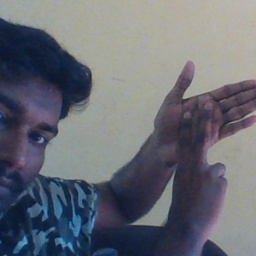N: (150, 57, 256, 192)
